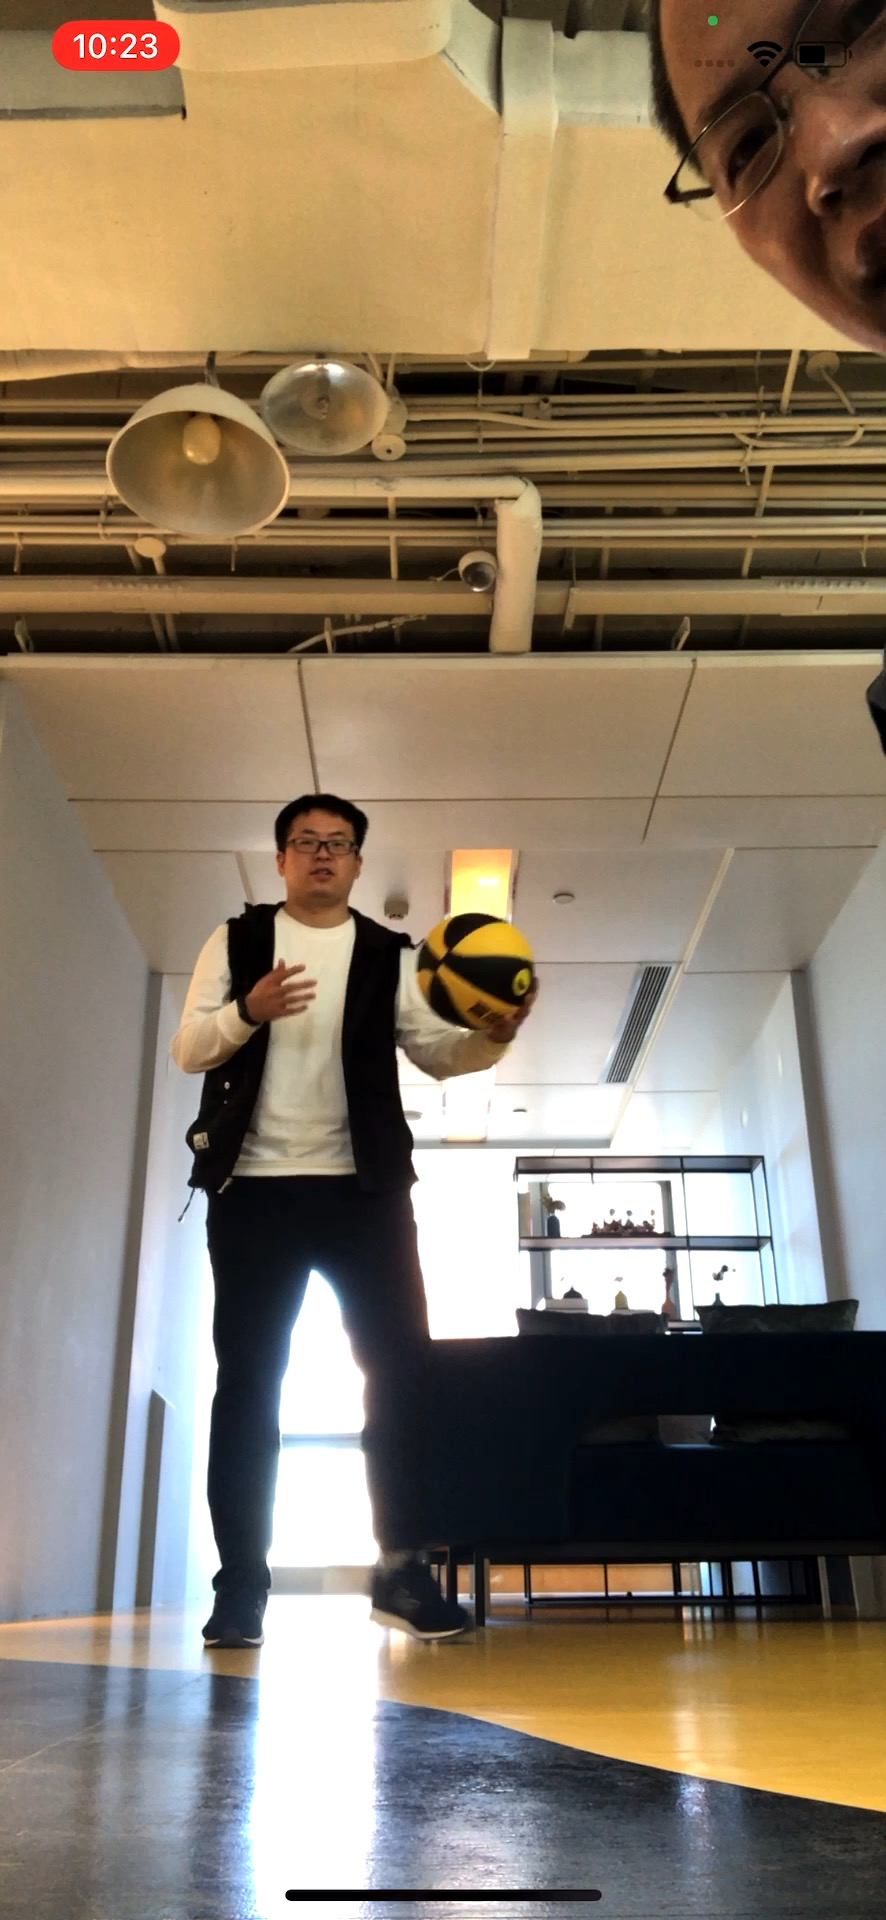ball: (416, 910, 538, 1031)
